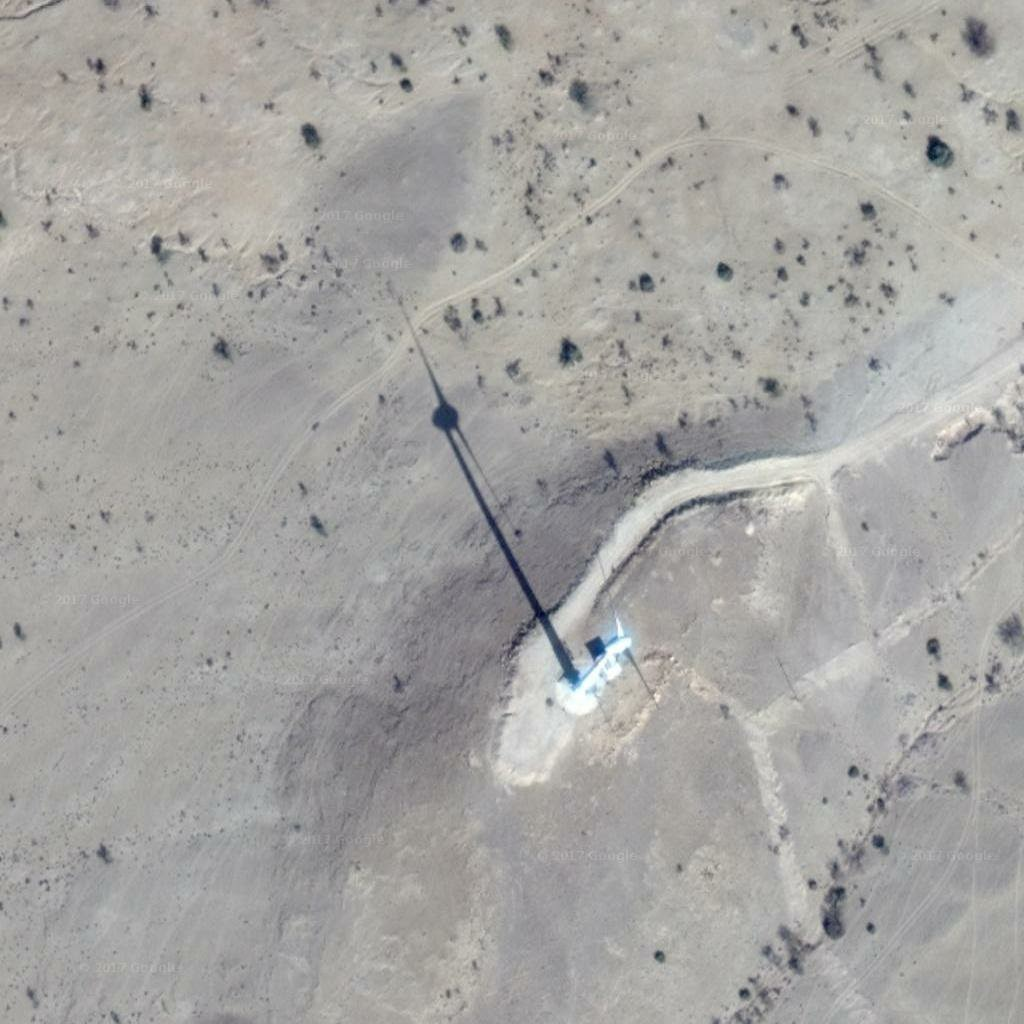Windmill: (396, 318, 586, 666)
